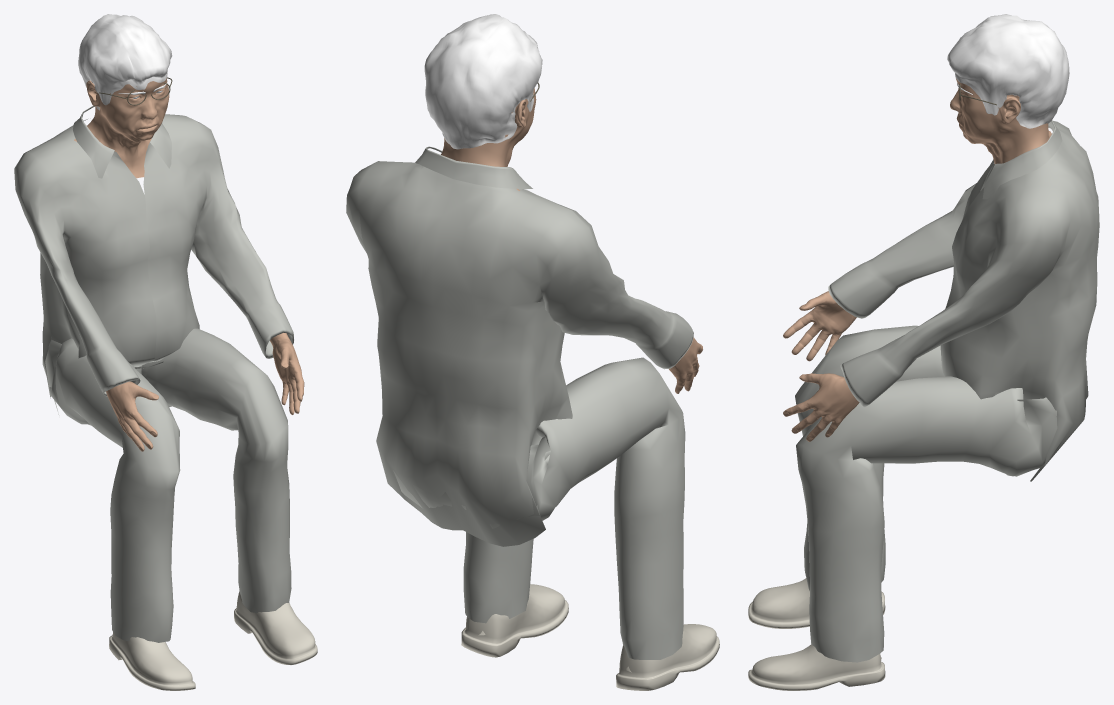
The model's file is elder-man-seated.glb.
3 renders of one model, left to right at view 1: azimuth 30°, elevation 25°; view 2: azimuth 150°, elevation 25°; view 3: azimuth 270°, elevation 25°, orthographic. The views are drawn at different scales.
Visible parts, largest first — view 1: CC0 fitted clothes/male_casualsuit03/male_casualsuit03, smooth human anatomy with per-corner UV seams, CC0 fitted clothes/shoes04/shoes04, CC0 fitted hair/short02/short02; view 2: CC0 fitted clothes/male_casualsuit03/male_casualsuit03, CC0 fitted hair/short02/short02, CC0 fitted clothes/shoes04/shoes04, smooth human anatomy with per-corner UV seams; view 3: CC0 fitted clothes/male_casualsuit03/male_casualsuit03, CC0 fitted hair/short02/short02, smooth human anatomy with per-corner UV seams, CC0 fitted clothes/shoes04/shoes04.
Part boxes in pixels (x1,y1,x2,y2): CC0 fitted clothes/male_casualsuit03/male_casualsuit03: (14, 106, 293, 642); smooth human anatomy with per-corner UV seams: (74, 78, 304, 451); CC0 fitted clothes/shoes04/shoes04: (109, 591, 317, 690); CC0 fitted hair/short02/short02: (78, 14, 172, 110); CC0 fitted clothes/male_casualsuit03/male_casualsuit03: (346, 146, 693, 659); CC0 fitted hair/short02/short02: (424, 14, 542, 149); CC0 fitted clothes/shoes04/shoes04: (461, 584, 719, 690); smooth human anatomy with per-corner UV seams: (441, 88, 702, 393); CC0 fitted clothes/male_casualsuit03/male_casualsuit03: (795, 120, 1099, 662); CC0 fitted hair/short02/short02: (947, 14, 1069, 128); smooth human anatomy with per-corner UV seams: (783, 79, 1051, 441); CC0 fitted clothes/shoes04/shoes04: (748, 578, 885, 690).
Size of the model in its own units: 0.4873 by 1.36 by 0.6858.
